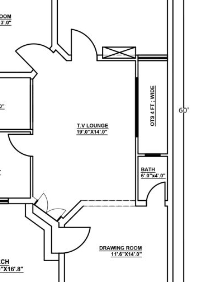door: (13, 38, 58, 83), (57, 220, 99, 263), (66, 21, 102, 67), (3, 131, 45, 165), (34, 187, 71, 223), (141, 179, 171, 220)
